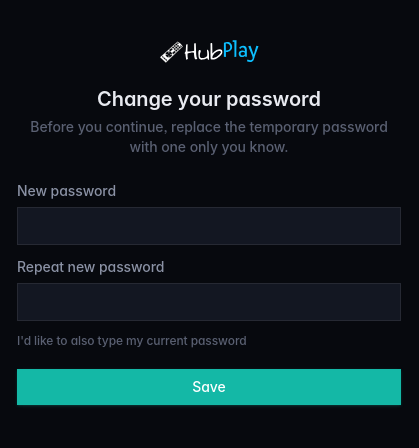
it: ChangePassword forced rotation › reveals the current-password field when alsoVerifyOld is clicked
Click the button "I'd like to also type my current password". click: [132, 341]
box: [17,333,247,349]
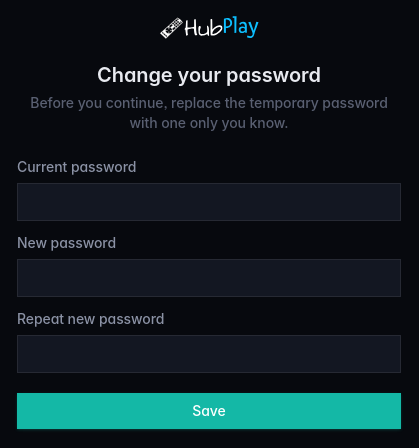
Expected: the password field labelled "Current password" is shown, [17,183,401,221]
